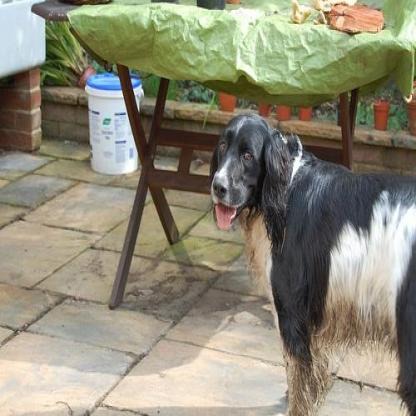English_springer: (208, 111, 414, 414)
